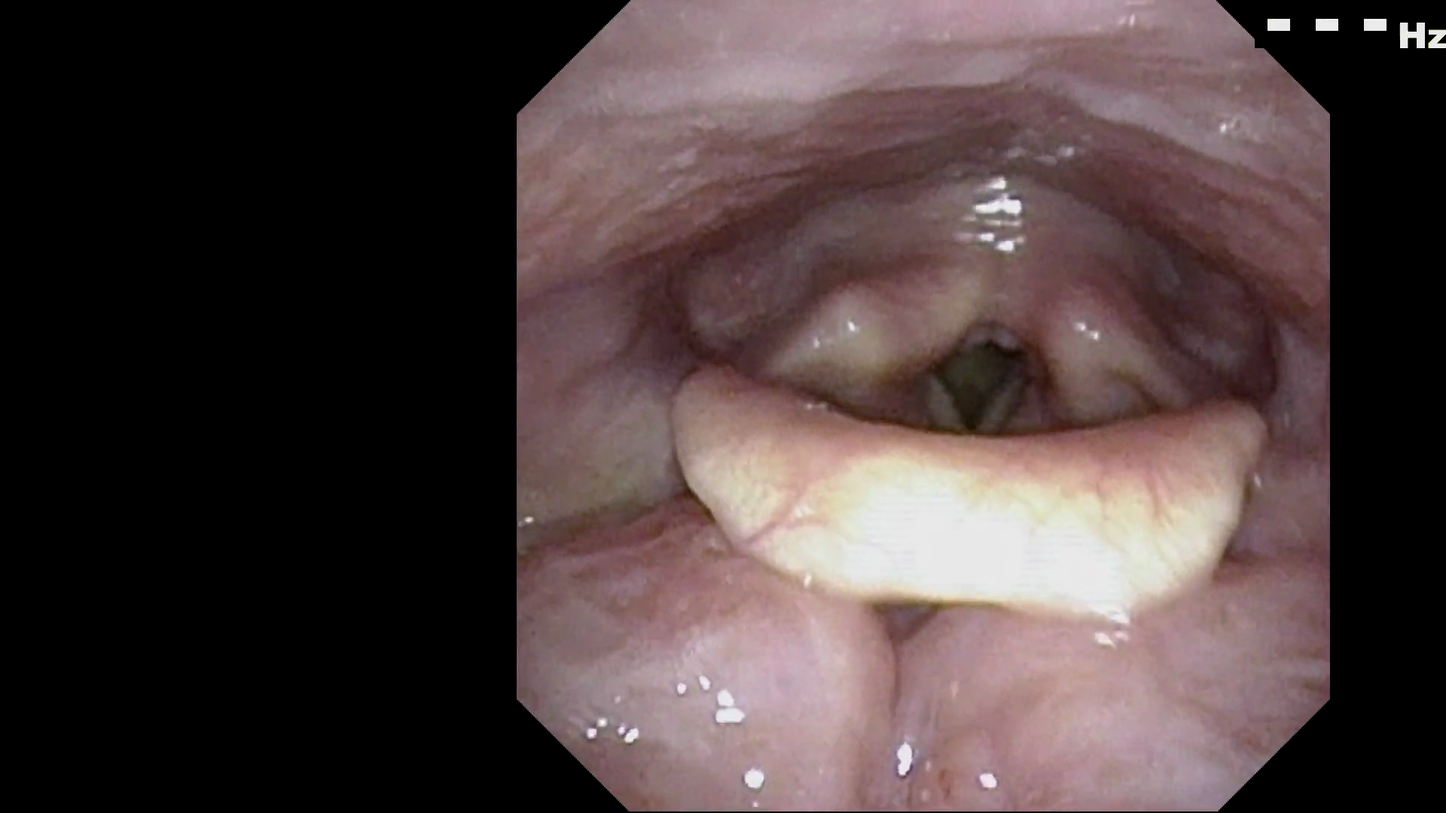epiglottis: (653, 360, 1271, 632)
trachea: (904, 308, 1056, 468)
